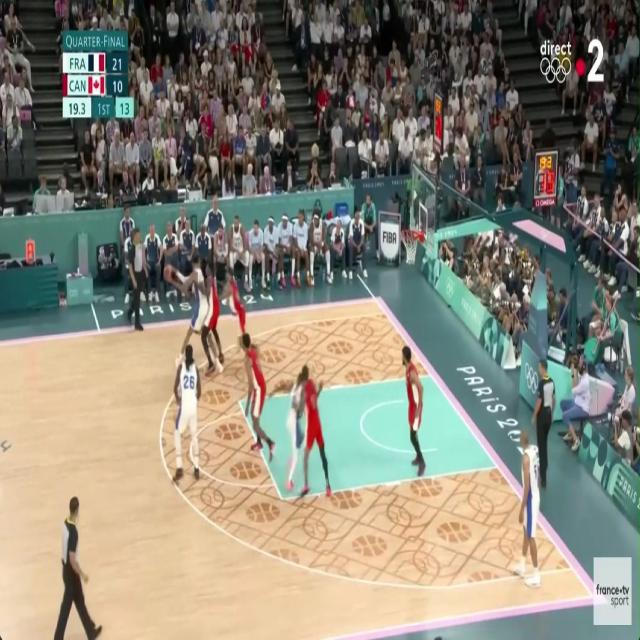ball_handler: (163, 256, 204, 362)
